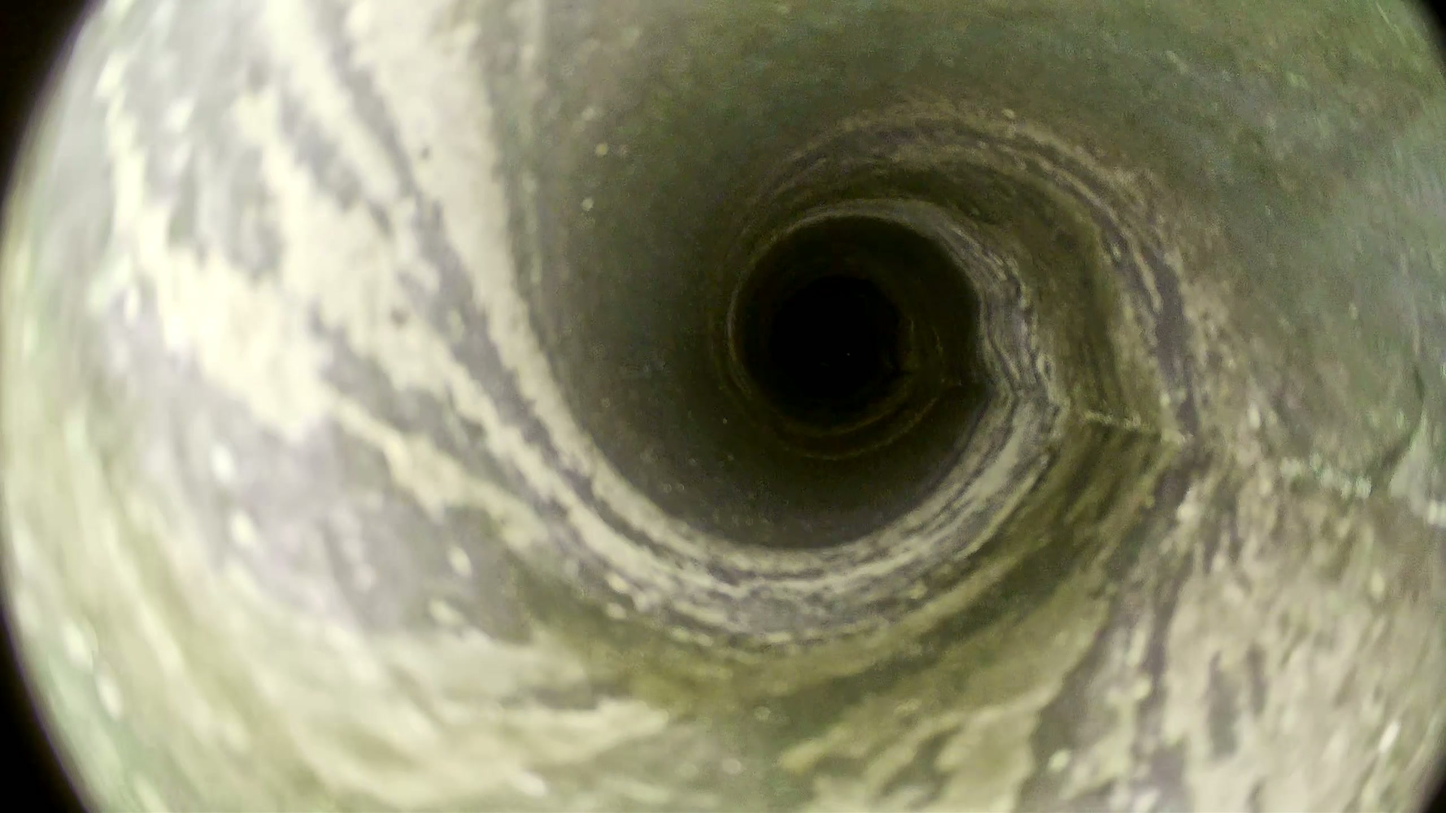hole: (774, 292, 880, 396)
